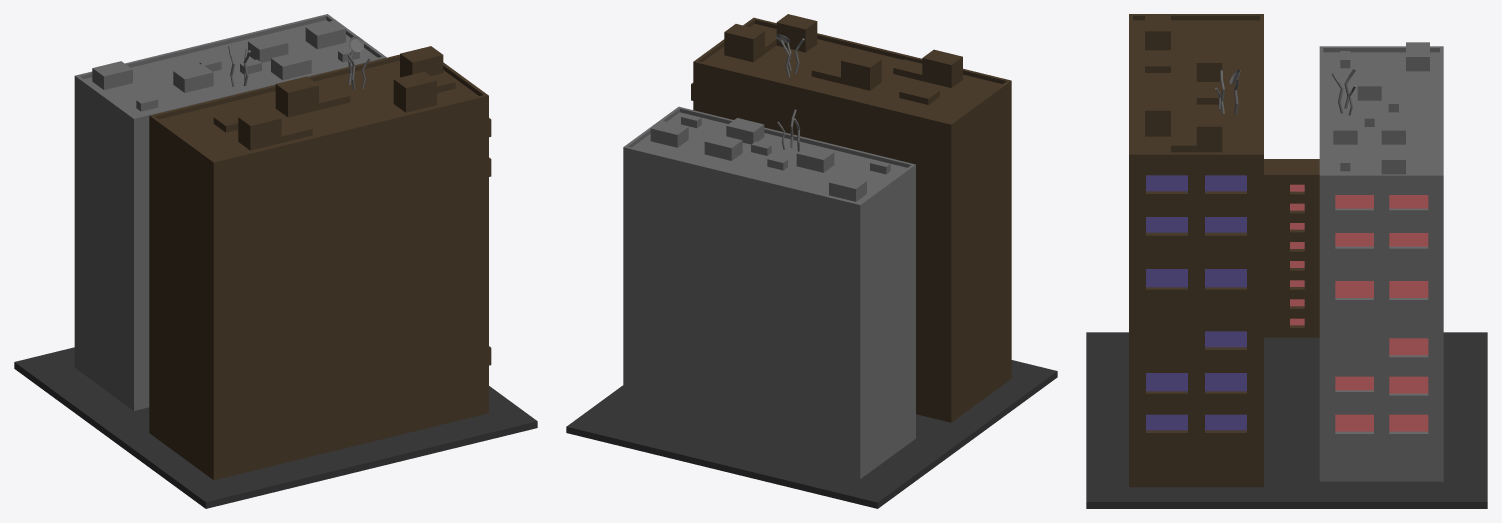
3 renders of one model, left to right at view 1: azimuth 30°, elevation 25°; view 2: azimuth 150°, elevation 25°; view 3: azimuth 270°, elevation 25°, orthographic. The views are drawn at different scales.
Visible parts, largest first — view 1: Cube.003, Cube.004, Floor.001; view 2: Cube.004, Cube.003, Floor.001; view 3: Cube.004, Cube.003, Floor.001.
Boxes of the visible parts, x1,y1,x2,y2 form: Cube.003: [149, 46, 491, 480]; Cube.004: [74, 14, 386, 410]; Floor.001: [14, 347, 537, 508]; Cube.004: [623, 106, 915, 478]; Cube.003: [691, 14, 1011, 422]; Floor.001: [566, 360, 1057, 508]; Cube.004: [1264, 42, 1443, 481]; Cube.003: [1129, 14, 1263, 487]; Floor.001: [1086, 332, 1487, 508].
Bounding box in the file's own units: 800 × 840 × 800.
